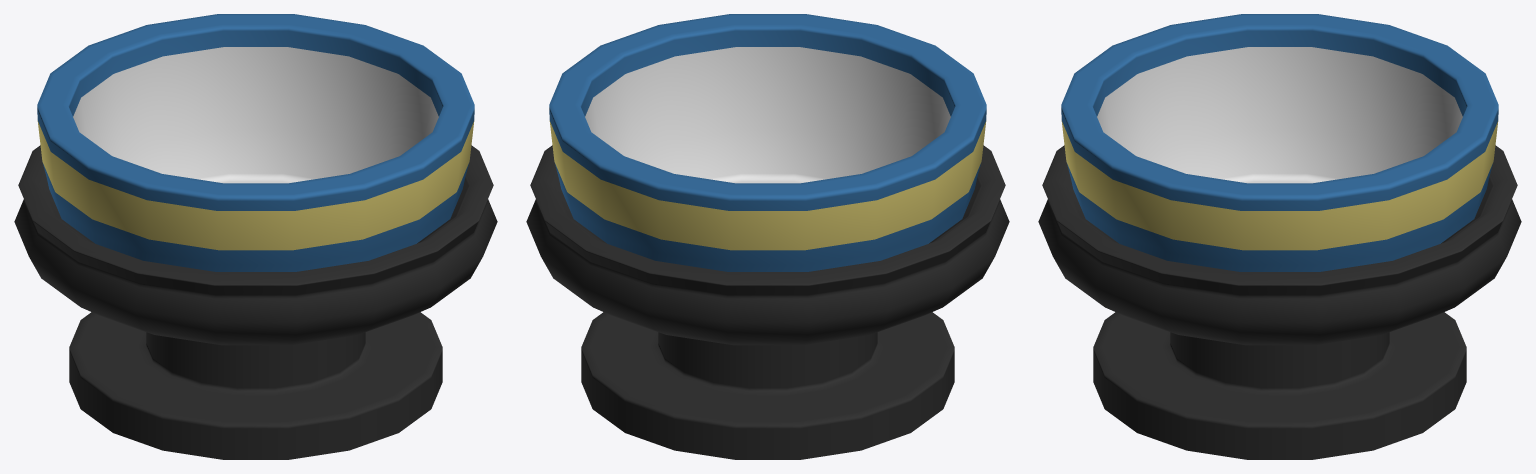
File: Vasija_agua.fbx
3 views of the same model, side by side, from view 1: azimuth 30°, elevation 25°; view 2: azimuth 150°, elevation 25°; view 3: azimuth 270°, elevation 25° (orthographic).
Parts seen in each view (by area): view 1: Cylinder; view 2: Cylinder; view 3: Cylinder.
Part boxes in pixels (x1=…): Cylinder: x1=14, y1=14, x2=497, y2=459; Cylinder: x1=526, y1=14, x2=1009, y2=459; Cylinder: x1=1038, y1=14, x2=1521, y2=459.
Size of the model in its own units: 121 by 77.61 by 123.
